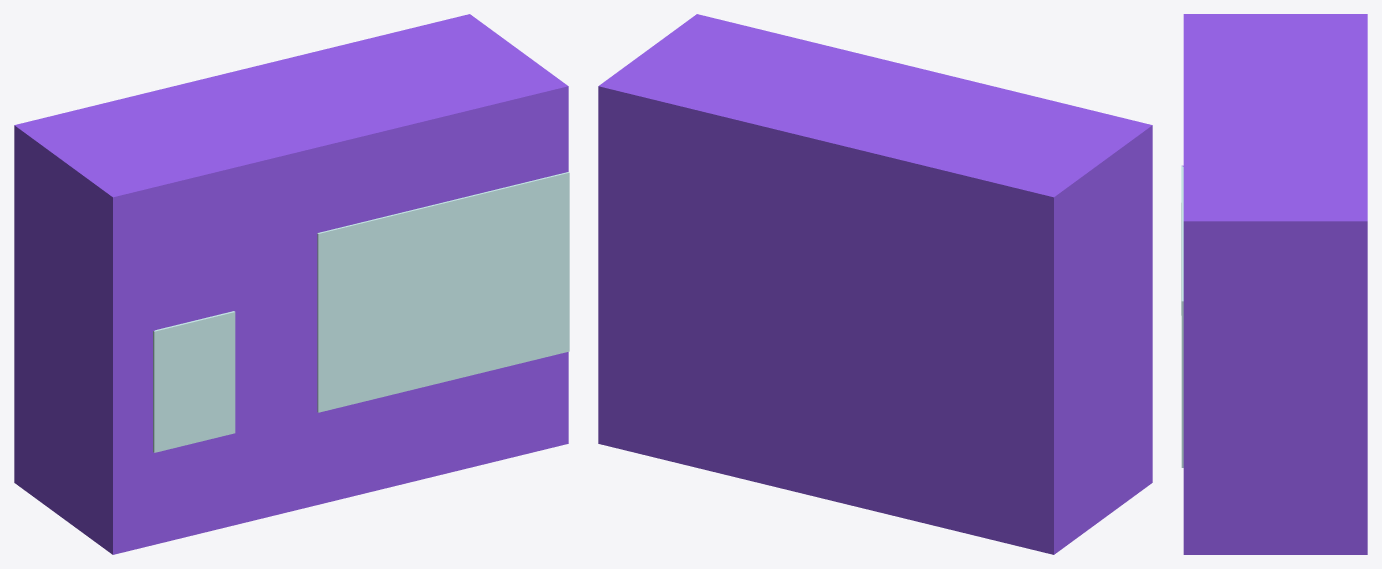
The picture shows the model from 3 angles, left to right: view 1: azimuth 30°, elevation 25°; view 2: azimuth 150°, elevation 25°; view 3: azimuth 270°, elevation 25°; orthographic projection. The views are drawn at different scales.
Parts seen in each view (by area): view 1: Mesh_0.008; view 2: Mesh_0.008; view 3: Mesh_0.008.
Boxes of the visible parts, x1,y1,x2,y2 form: Mesh_0.008: (14,14,569,554); Mesh_0.008: (598,14,1152,554); Mesh_0.008: (1181,14,1367,554).
Bounding box in the file's own units: 4 × 3 × 1.52.
